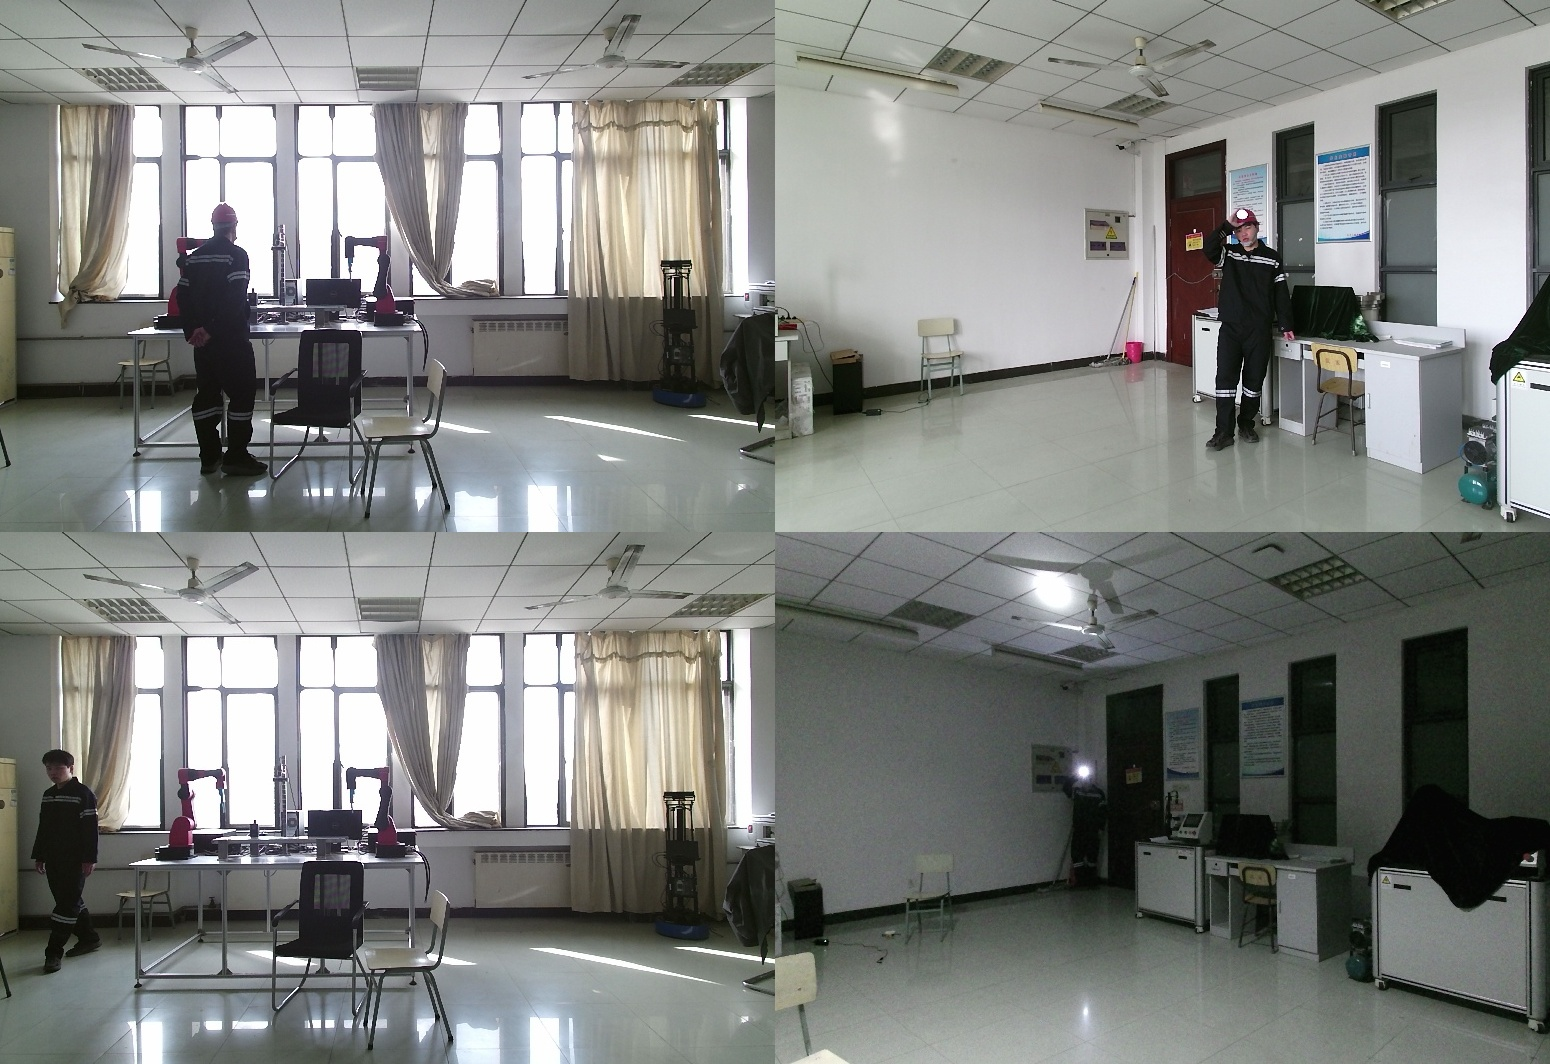person: (174, 204, 272, 479), (1207, 209, 1303, 447), (26, 751, 109, 974), (1063, 770, 1106, 887)
